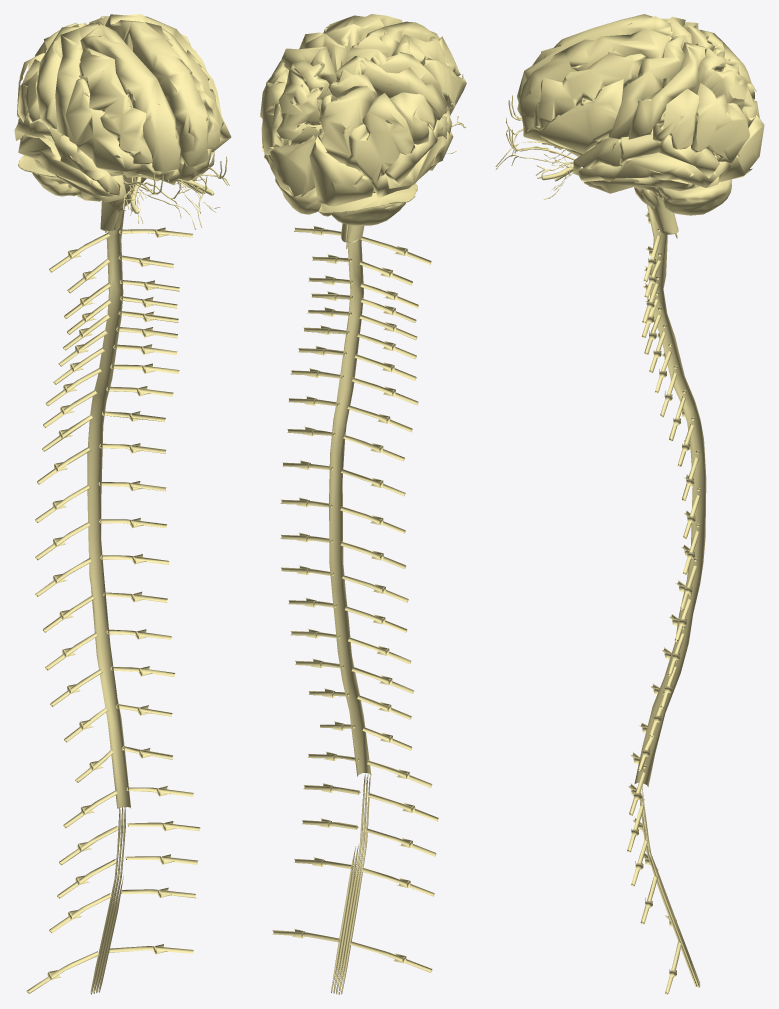
The model's file is cuerpo-nervio.glb.
3 renders of one model, left to right at view 1: azimuth 30°, elevation 25°; view 2: azimuth 150°, elevation 25°; view 3: azimuth 270°, elevation 25°, orthographic. The views are drawn at different scales.
Parts seen in each view (by area): view 1: medula_espinal_ilustracion, circunvolucion_frontal_superior_izquierda, circunvolucion_frontal_superior_derecha, circunvolucion_frontal_media_derecha, circunvolucion_frontal_inferior_derecha, circunvolucion_temporal_superior_derecha, circunvolucion_precentral_derecha_motora, circunvolucion_temporal_media_derecha, cola_de_caballo_ilustracion, circunvolucion_poscentral_derecha_sensitiva, circunvolucion_frontal_media_izquierda, circunvoluciones_orbitarias (+5 smaller); view 2: medula_espinal_ilustracion, circunvolucion_angular_derecha, lobulillo_parietal_superior_derecho, lobulillo_parietal_superior_izquierdo, lobulo_occipital_derecho, cola_de_caballo_ilustracion, circunvolucion_poscentral_derecha_sensitiva, lobulo_occipital_izquierdo, cerebelo, circunvolucion_angular_izquierda, circunvolucion_frontal_superior_derecha, circunvolucion_supramarginal_derecha (+9 smaller); view 3: medula_espinal_ilustracion, circunvolucion_frontal_superior_izquierda, circunvolucion_frontal_media_izquierda, circunvolucion_frontal_inferior_izquierda, circunvolucion_angular_izquierda, circunvolucion_temporal_superior_izquierda, circunvolucion_temporal_media_izquierda, circunvolucion_precentral_izquierda_motora, circunvolucion_poscentral_izquierda_sensitiva, lobulillo_parietal_superior_izquierdo, circunvolucion_frontal_superior_derecha, circunvolucion_supramarginal_izquierda (+6 smaller).
Boxes of the visible parts, bbox=[...] form: medula_espinal_ilustracion: bbox=[87, 207, 131, 808]; circunvolucion_frontal_superior_izquierda: bbox=[111, 20, 209, 166]; circunvolucion_frontal_superior_derecha: bbox=[80, 22, 180, 171]; circunvolucion_frontal_media_derecha: bbox=[79, 48, 152, 164]; circunvolucion_frontal_inferior_derecha: bbox=[65, 78, 140, 172]; circunvolucion_temporal_superior_derecha: bbox=[14, 112, 120, 195]; circunvolucion_precentral_derecha_motora: bbox=[55, 23, 104, 137]; circunvolucion_temporal_media_derecha: bbox=[18, 122, 113, 196]; cola_de_caballo_ilustracion: bbox=[90, 806, 125, 994]; circunvolucion_poscentral_derecha_sensitiva: bbox=[36, 23, 86, 129]; circunvolucion_frontal_media_izquierda: bbox=[162, 28, 223, 148]; circunvoluciones_orbitarias: bbox=[107, 148, 212, 184]; medula_espinal_ilustracion: bbox=[329, 239, 371, 776]; circunvolucion_angular_derecha: bbox=[346, 93, 415, 182]; lobulillo_parietal_superior_derecho: bbox=[318, 70, 377, 164]; lobulillo_parietal_superior_izquierdo: bbox=[276, 60, 335, 145]; lobulo_occipital_derecho: bbox=[309, 136, 373, 206]; cola_de_caballo_ilustracion: bbox=[331, 773, 370, 994]; circunvolucion_poscentral_derecha_sensitiva: bbox=[336, 56, 447, 120]; lobulo_occipital_izquierdo: bbox=[267, 135, 322, 197]; cerebelo: bbox=[275, 178, 405, 225]; circunvolucion_angular_izquierda: bbox=[260, 68, 288, 155]; circunvolucion_frontal_superior_derecha: bbox=[351, 21, 439, 57]; circunvolucion_supramarginal_derecha: bbox=[389, 92, 437, 144]; medula_espinal_ilustracion: bbox=[634, 205, 706, 786]; circunvolucion_frontal_superior_izquierda: bbox=[517, 28, 672, 129]; circunvolucion_frontal_media_izquierda: bbox=[533, 51, 645, 130]; circunvolucion_frontal_inferior_izquierda: bbox=[539, 79, 623, 153]; circunvolucion_angular_izquierda: bbox=[691, 83, 749, 163]; circunvolucion_temporal_superior_izquierda: bbox=[573, 124, 719, 178]; circunvolucion_temporal_media_izquierda: bbox=[578, 152, 730, 187]; circunvolucion_precentral_izquierda_motora: bbox=[606, 35, 691, 138]; circunvolucion_poscentral_izquierda_sensitiva: bbox=[628, 42, 706, 139]; lobulillo_parietal_superior_izquierdo: bbox=[690, 48, 756, 127]; circunvolucion_frontal_superior_derecha: bbox=[517, 14, 672, 102]; circunvolucion_supramarginal_izquierda: bbox=[653, 89, 699, 149].
Size of the model in its own units: 0.1406 by 0.7775 by 0.1972.
